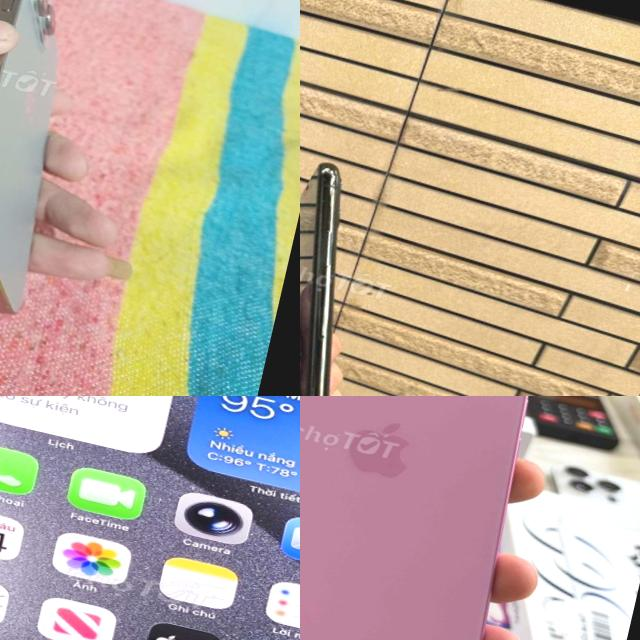gen_11: (300, 162, 341, 396)
gen_15: (0, 396, 300, 640), (0, 0, 153, 345)
gen_16: (300, 396, 582, 640)
